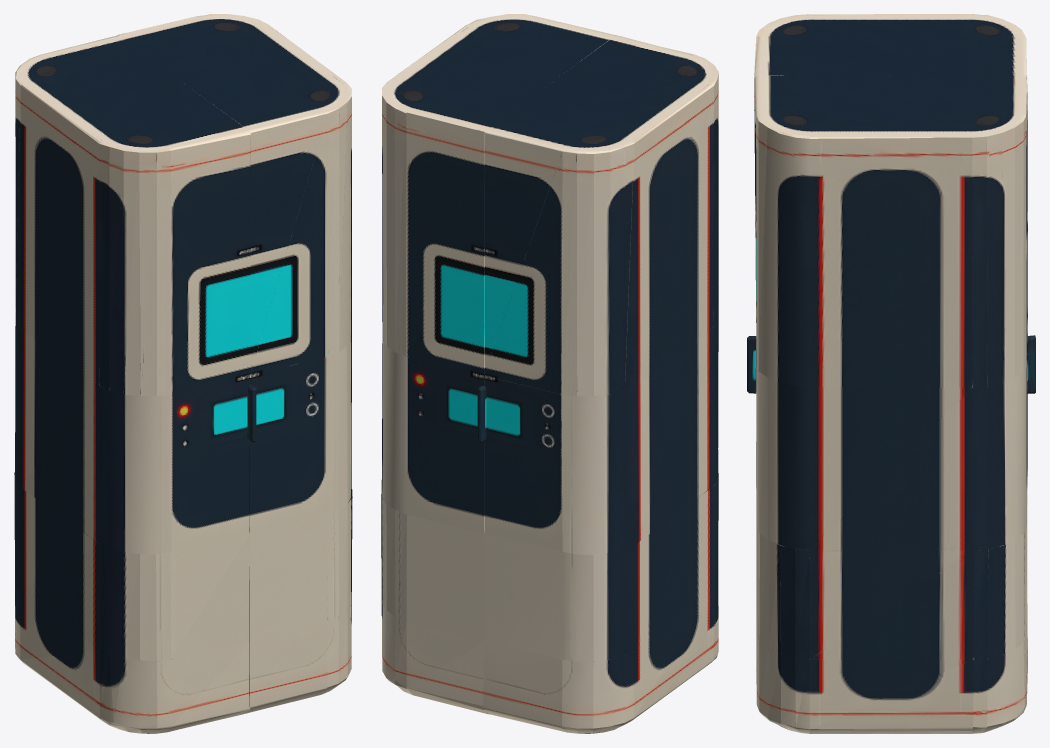
The model's file is server.glb.
3 renders of one model, left to right at view 1: azimuth 30°, elevation 25°; view 2: azimuth 150°, elevation 25°; view 3: azimuth 270°, elevation 25°, orthographic. The views are drawn at different scales.
Size of the model in its own units: 0.4424 by 1 by 0.4336.
Materials: 1 (1 with a texture image).
